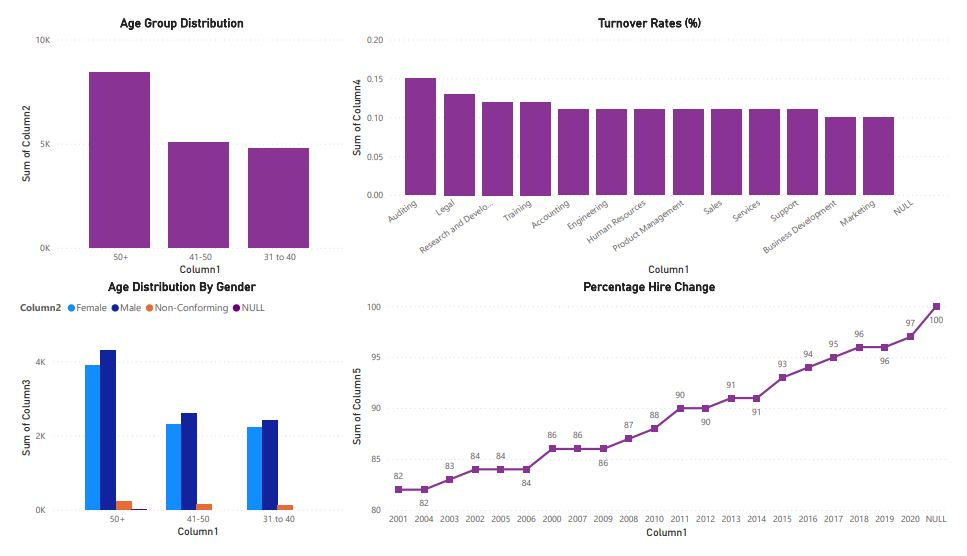

This screenshot's page, from the dashboard's own definition file:
{"tool":"powerbi","page":{"name":"Page 2","canvas":[1280,720],"ordinal":1},"visuals":[{"type":"columnChart","title":"Age Group Distribution","fields":{"Category":["Age Group Distribution.Column1"],"Y":["Sum(Age Group Distribution.Column2)"]},"box":[0,0,452.9,360.8],"z":0},{"type":"clusteredColumnChart","title":"Age Distribution By Gender","fields":{"Category":["Age Group Distribution By Gender.Column1"],"Y":["Sum(Age Group Distribution By Gender.Column3)"],"Series":["Age Group Distribution By Gender.Column2"]},"box":[0,360.8,452.9,358.8],"z":1},{"type":"columnChart","title":"Turnover Rates (%)","fields":{"Category":["Turnover Rates.Column1"],"Y":["Sum(Turnover Rates.Column4)"]},"box":[452.9,0,827.5,360.8],"z":2},{"type":"lineChart","title":"Percentage Hire Change","fields":{"Category":["Percentage Hire Change.Column1"],"Y":["Sum(Percentage Hire Change.Column5)"]},"box":[452.9,360.8,827.5,358.8],"z":3}]}

Visuals, with their boxes in screenshot pixels (x1, y1, x2, y2), scaled from the page's 1280x720 canvas onto the 967x556 screenshot:
"Age Group Distribution" columnChart: bbox=(0, 0, 342, 279)
"Age Distribution By Gender" clusteredColumnChart: bbox=(0, 279, 342, 555)
"Turnover Rates (%)" columnChart: bbox=(342, 0, 966, 279)
"Percentage Hire Change" lineChart: bbox=(342, 279, 966, 555)
